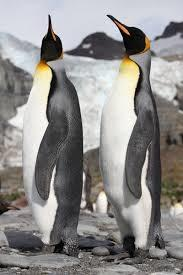king: (87, 6, 171, 265), (11, 6, 94, 257)
